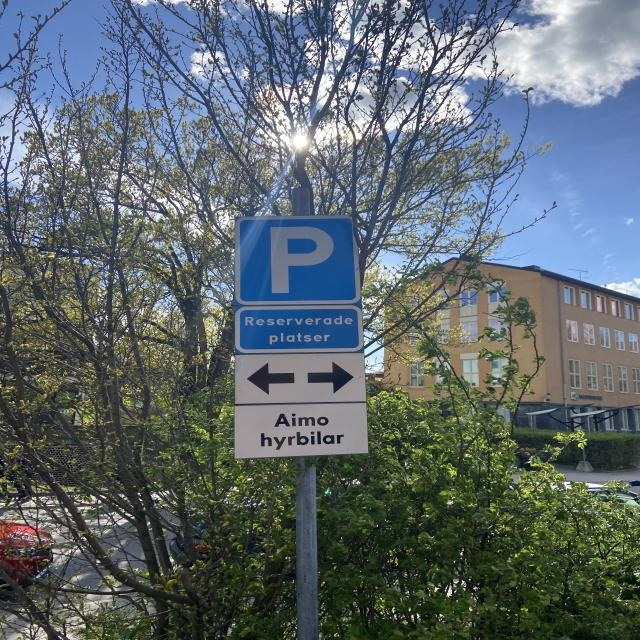P-skylt: (235, 214, 363, 306)
